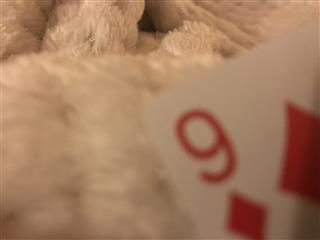NineOfDiamonds: (143, 25, 320, 240)
